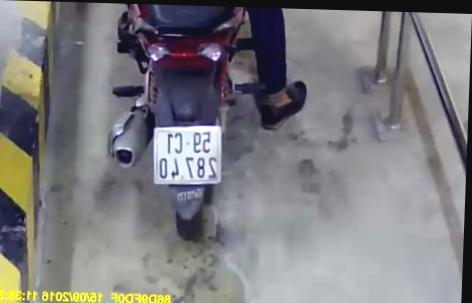License_Plate: (145, 120, 228, 192)
